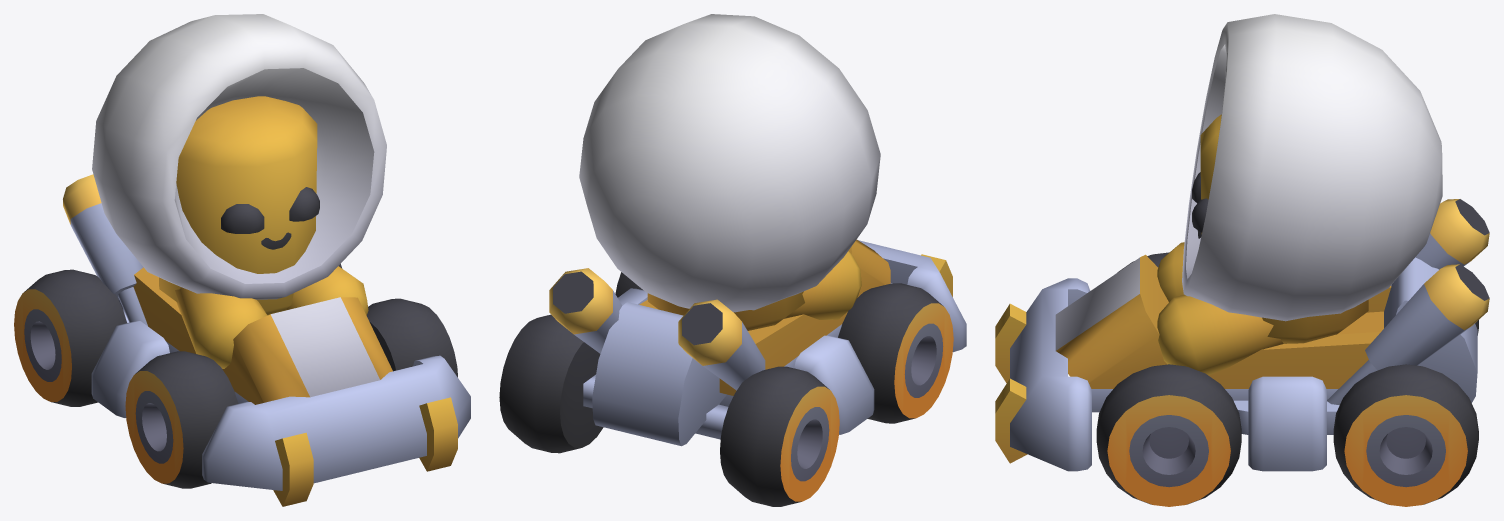
Rendered from kart-ooli.fbx.
3 views of the same model, side by side, from view 1: azimuth 30°, elevation 25°; view 2: azimuth 150°, elevation 25°; view 3: azimuth 270°, elevation 25° (orthographic). The views are drawn at different scales.
Parts seen in each view (by area): view 1: character, kart-ooli, wheel-back-right, wheel-front-right, wheel-front-left; view 2: character, kart-ooli, wheel-back-right, wheel-front-right, wheel-back-left; view 3: character, kart-ooli, wheel-front-left, wheel-back-left.
Part boxes in pixels (bbox=[...]): character: bbox=[92, 14, 386, 368]; kart-ooli: bbox=[63, 174, 470, 506]; wheel-back-right: bbox=[14, 269, 126, 406]; wheel-front-right: bbox=[125, 351, 238, 488]; wheel-front-left: bbox=[366, 298, 457, 377]; character: bbox=[579, 14, 880, 330]; kart-ooli: bbox=[549, 239, 966, 446]; wheel-back-right: bbox=[720, 366, 839, 506]; wheel-front-right: bbox=[838, 283, 953, 423]; wheel-back-left: bbox=[499, 314, 603, 453]; character: bbox=[1157, 14, 1442, 375]; kart-ooli: bbox=[995, 199, 1489, 471]; wheel-front-left: bbox=[1096, 364, 1241, 506]; wheel-back-left: bbox=[1333, 364, 1478, 506].
Bounding box in the file's own units: 97.43 × 133 × 143.
Materials: 1 (1 with a texture image).
